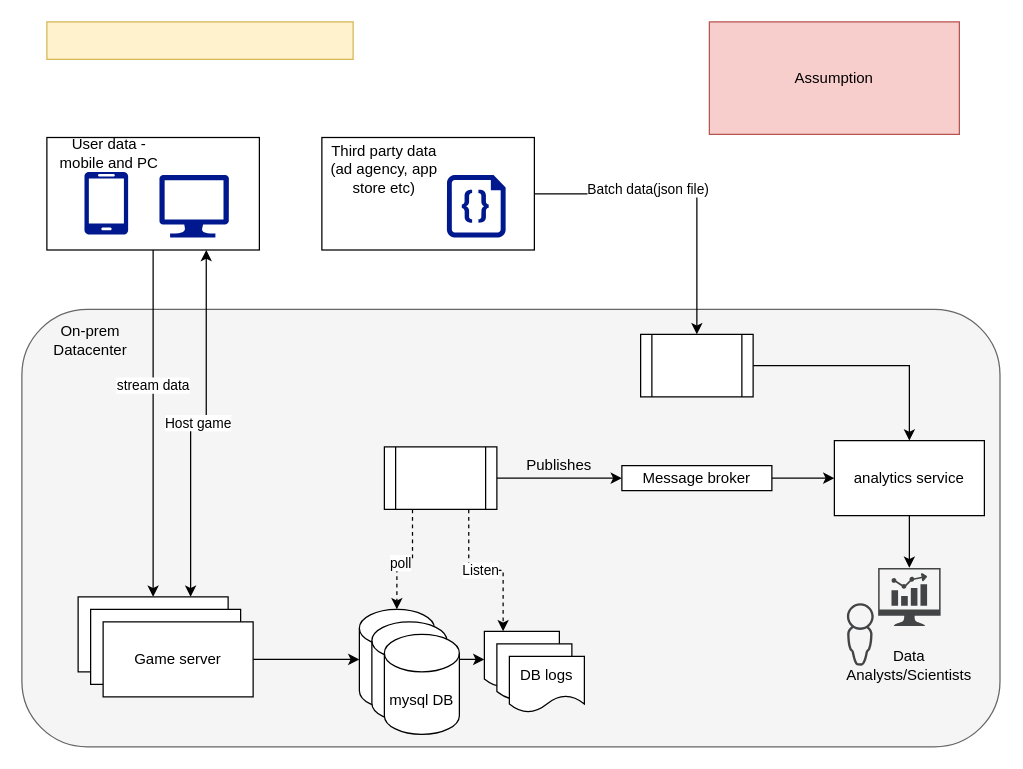
Some shapes in this 1023 by 769 pixel diagram are drawn without their labels. Here are the shapes that lost their labels. From the top down, the centre of each, then its label:
At [199,40]: "Transactional data - High Level Design".
At [696,365]: "Proxy server".
At [440,477]: "Application - message relay".
